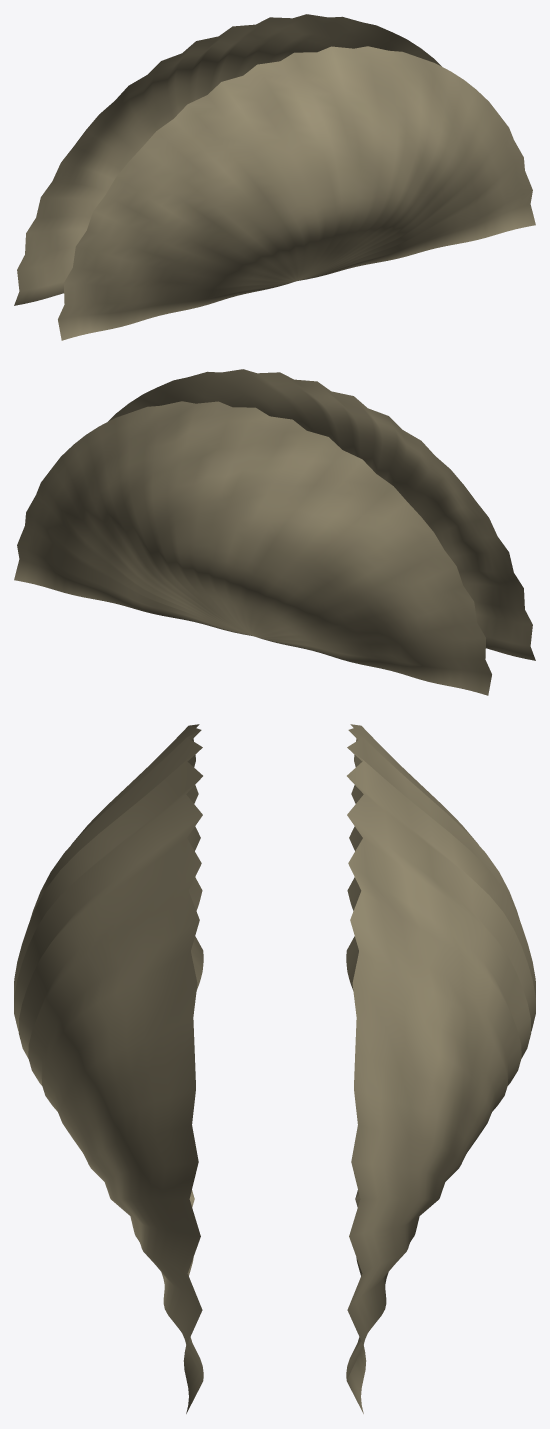
The model's file is freshclam-mobile.glb.
3 renders of one model, top to bottom at view 1: azimuth 30°, elevation 25°; view 2: azimuth 150°, elevation 25°; view 3: azimuth 270°, elevation 25°, orthographic. The views are drawn at different scales.
Visible parts, largest first — view 1: bivalve-valve; view 2: bivalve-valve; view 3: bivalve-valve.
Boxes of the visible parts, x1,y1,x2,y2 form: bivalve-valve: (14, 14, 535, 340); bivalve-valve: (14, 369, 535, 695); bivalve-valve: (14, 724, 535, 1413).
Size of the model in its own units: 0.7 by 0.32 by 0.3579.
